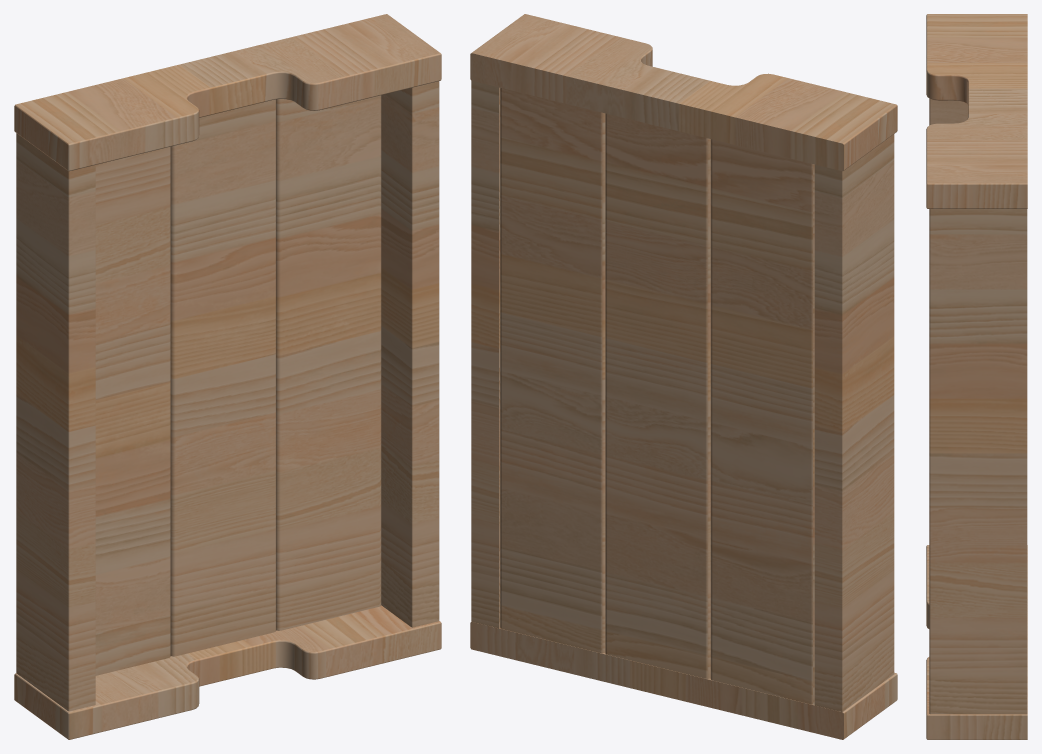
The picture shows the model from 3 angles, left to right: view 1: azimuth 30°, elevation 25°; view 2: azimuth 150°, elevation 25°; view 3: azimuth 270°, elevation 25°; orthographic projection. The views are drawn at different scales.
Size of the model in its own units: 0.6554 by 1 by 0.1647.
